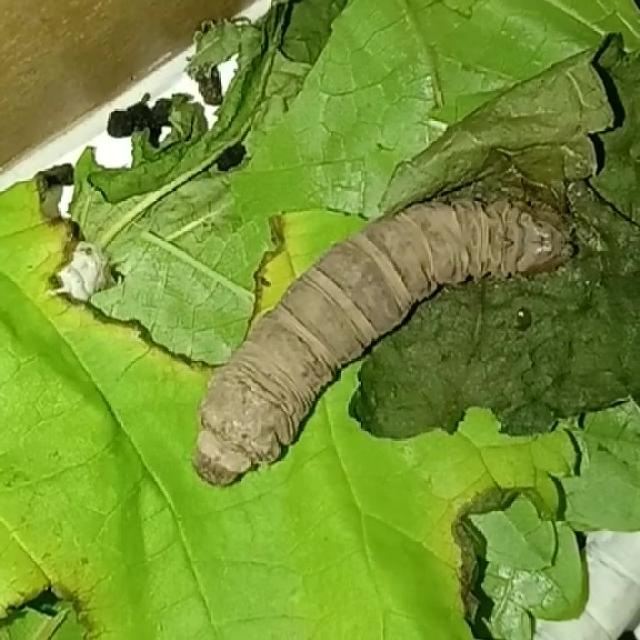Grasserie: (180, 153, 580, 535)
